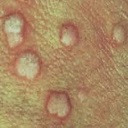Wart: (5, 10, 126, 113)
